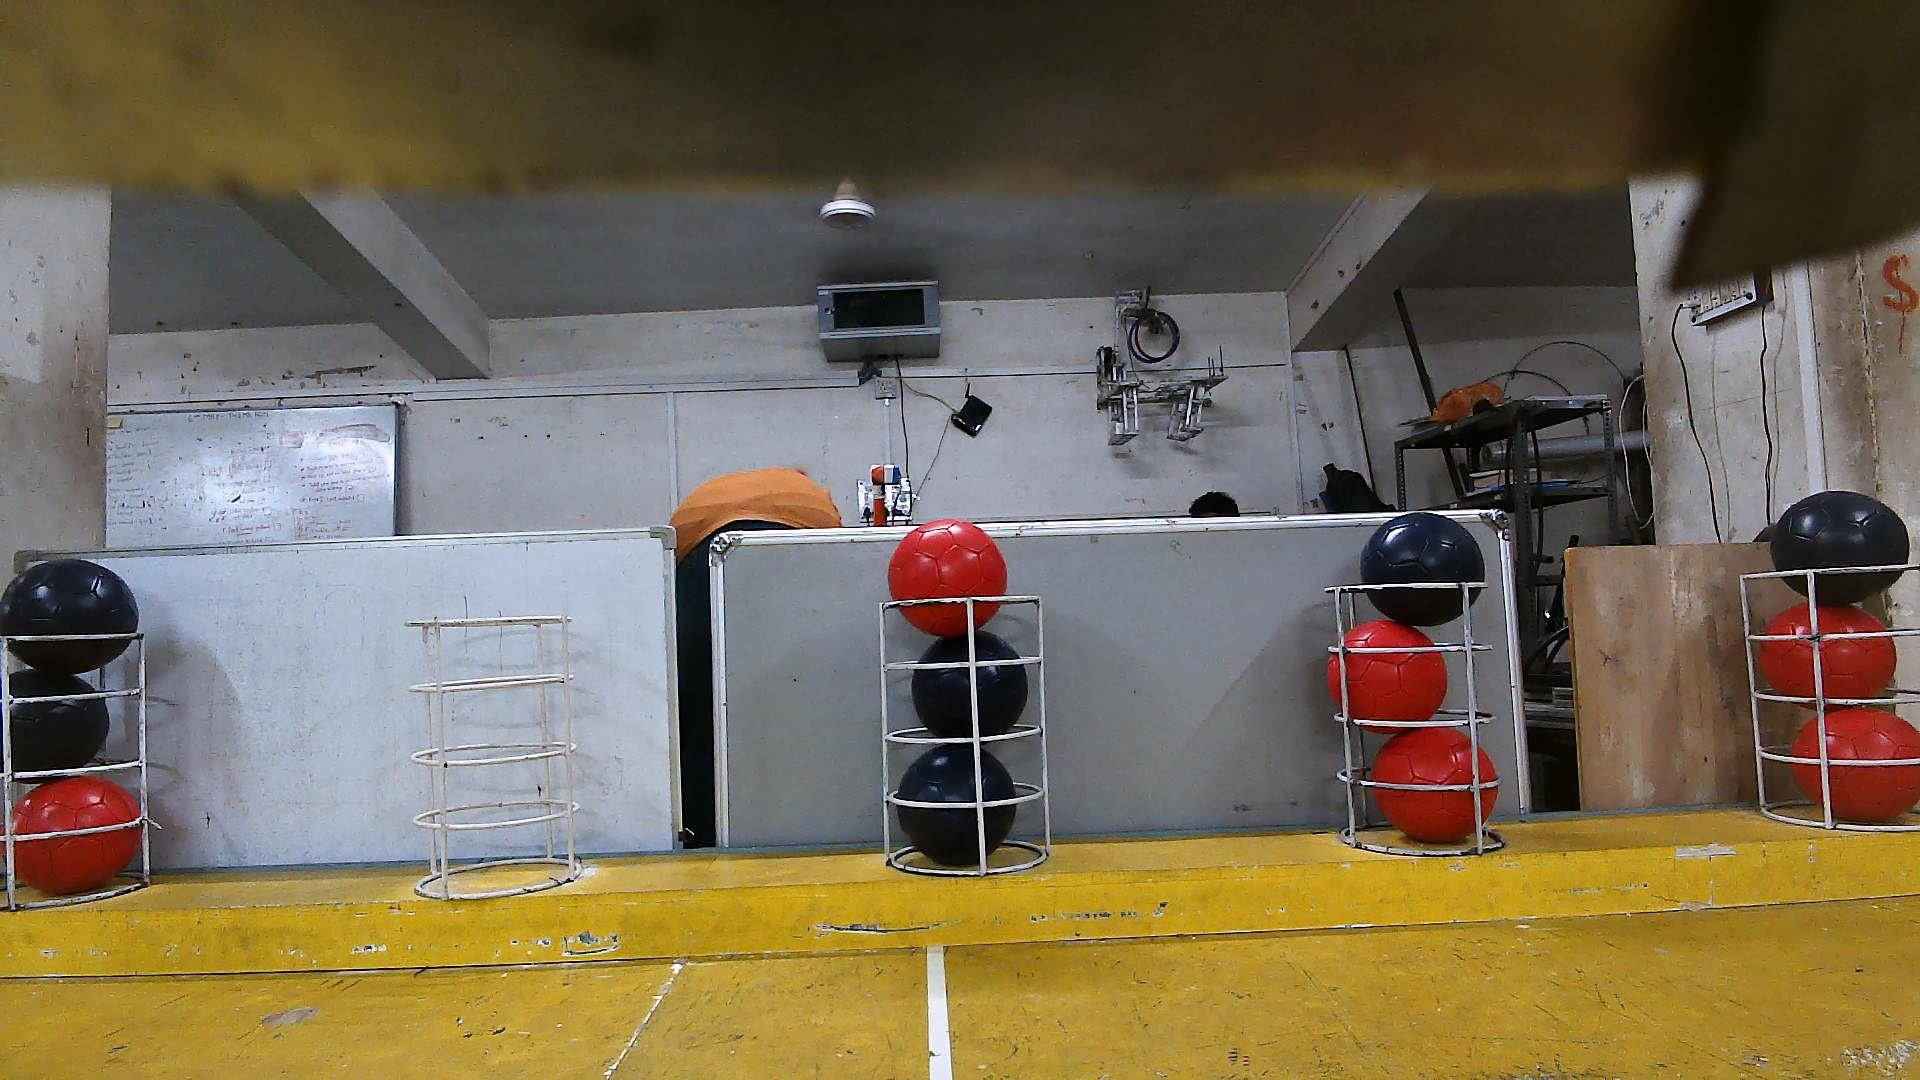dhoka: (0, 556, 137, 671), (1770, 491, 1908, 604), (897, 744, 1017, 866), (1364, 514, 1482, 622), (0, 670, 109, 785), (913, 633, 1029, 737)
laale: (1755, 601, 1894, 712), (1369, 728, 1498, 843), (1789, 708, 1920, 819), (886, 520, 1006, 638), (13, 778, 133, 894), (1328, 618, 1449, 733)
